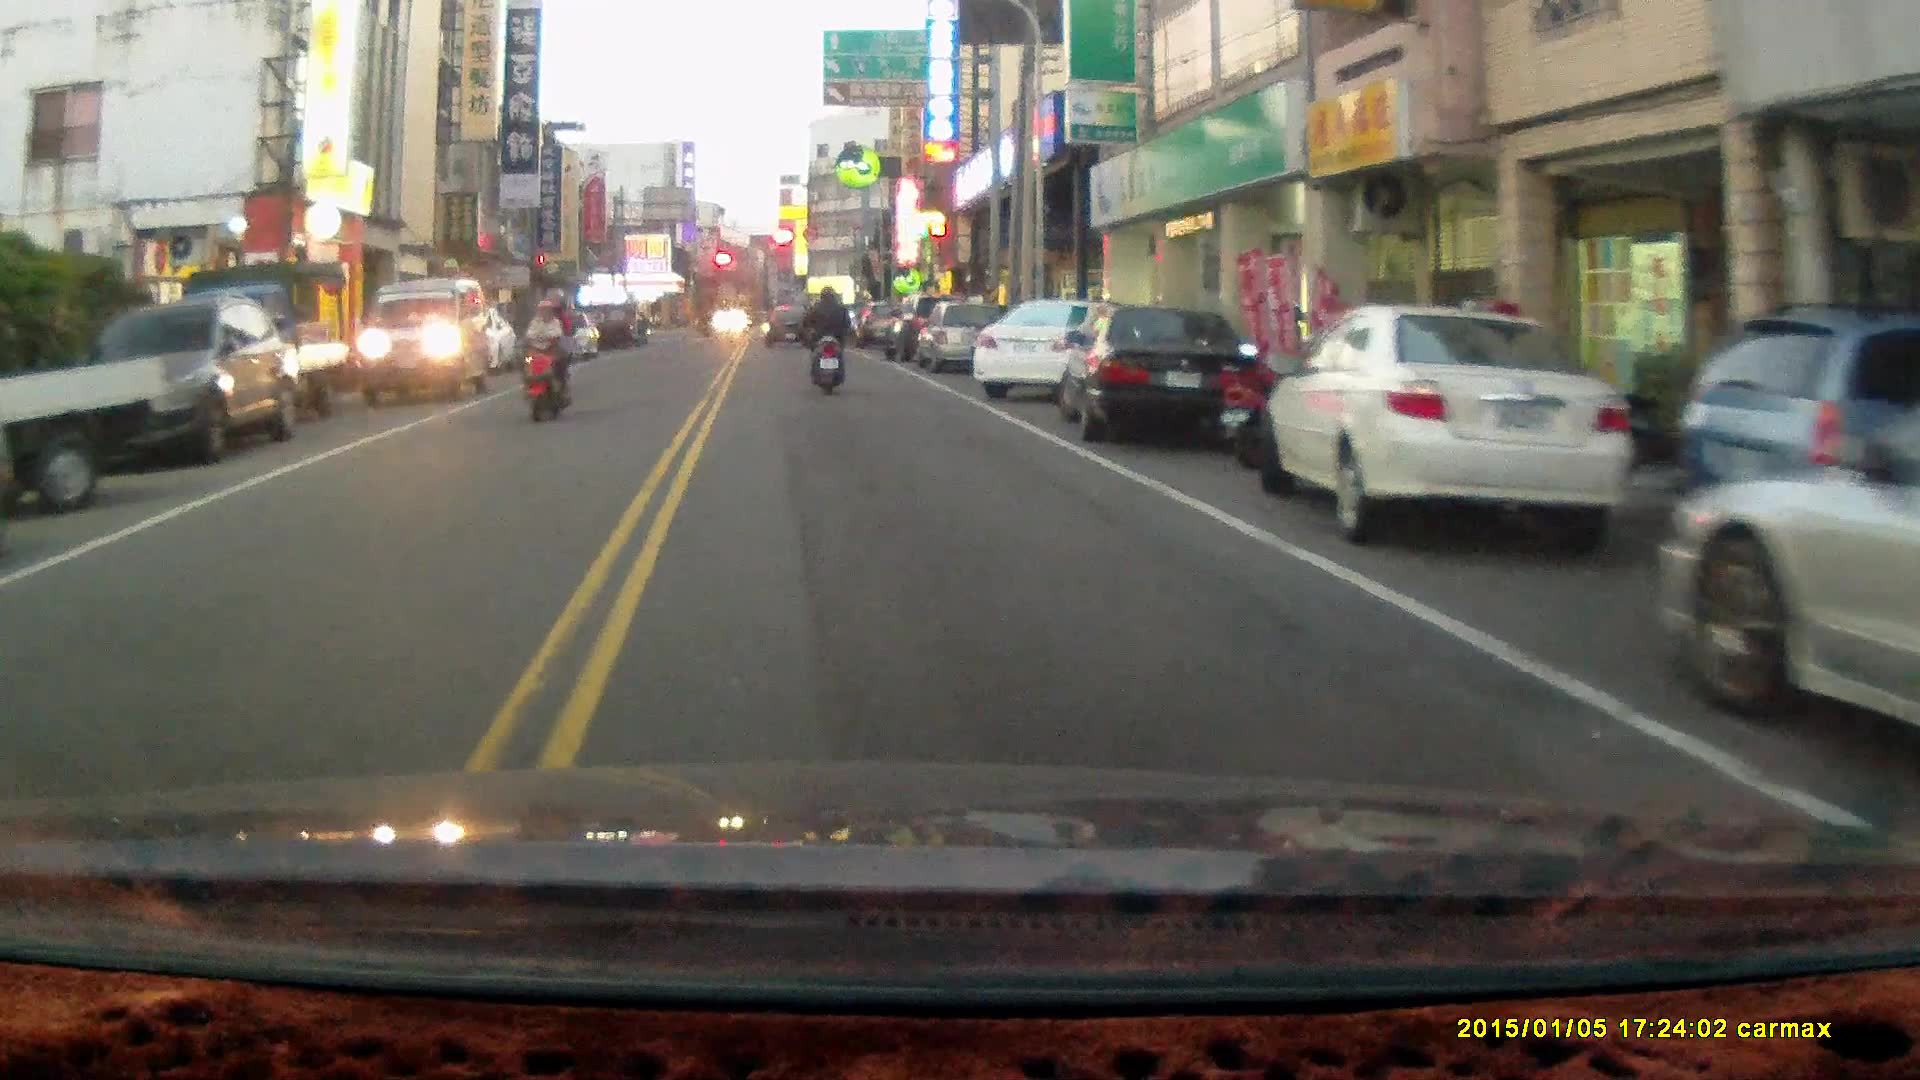rider: (521, 281, 578, 421), (804, 283, 850, 399)
vehicle: (1668, 382, 1920, 754), (1244, 305, 1624, 540), (70, 294, 296, 475), (160, 255, 359, 430), (1057, 303, 1256, 452), (972, 295, 1152, 401), (356, 278, 496, 407), (915, 299, 1011, 374)
